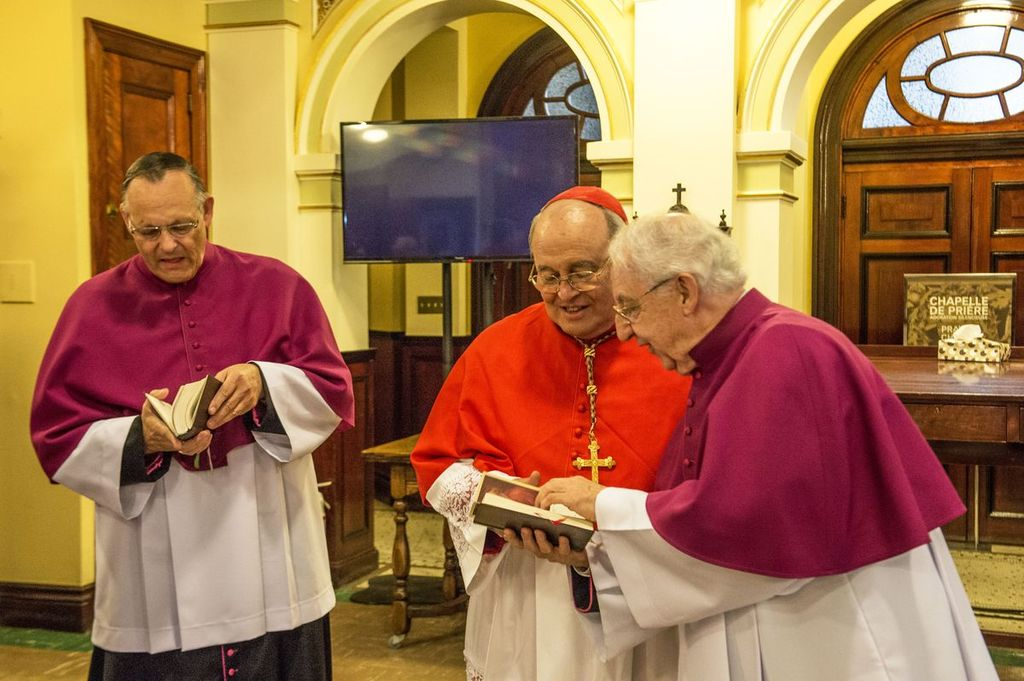Person: (502, 206, 1000, 681), (29, 150, 356, 681), (409, 186, 692, 680)
